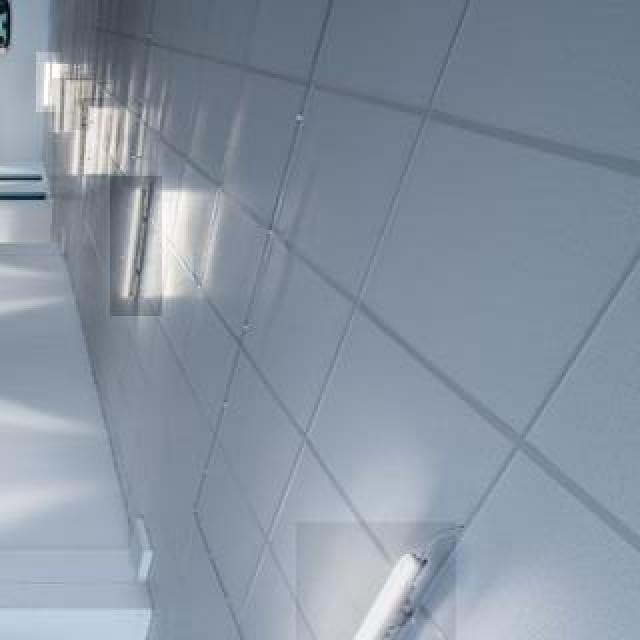fluorescent tube: (300, 536, 426, 640), (111, 174, 156, 303), (66, 107, 97, 191)
